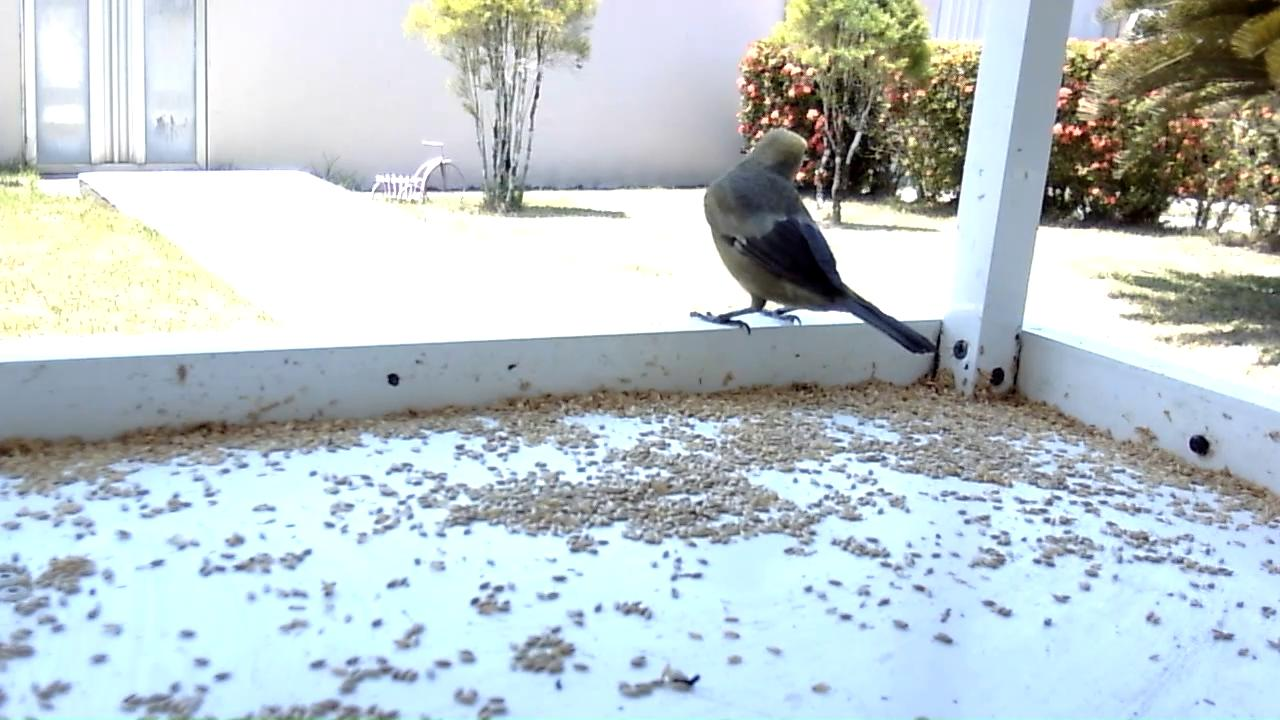sanhaco_do_coqueiro: (688, 125, 942, 359)
